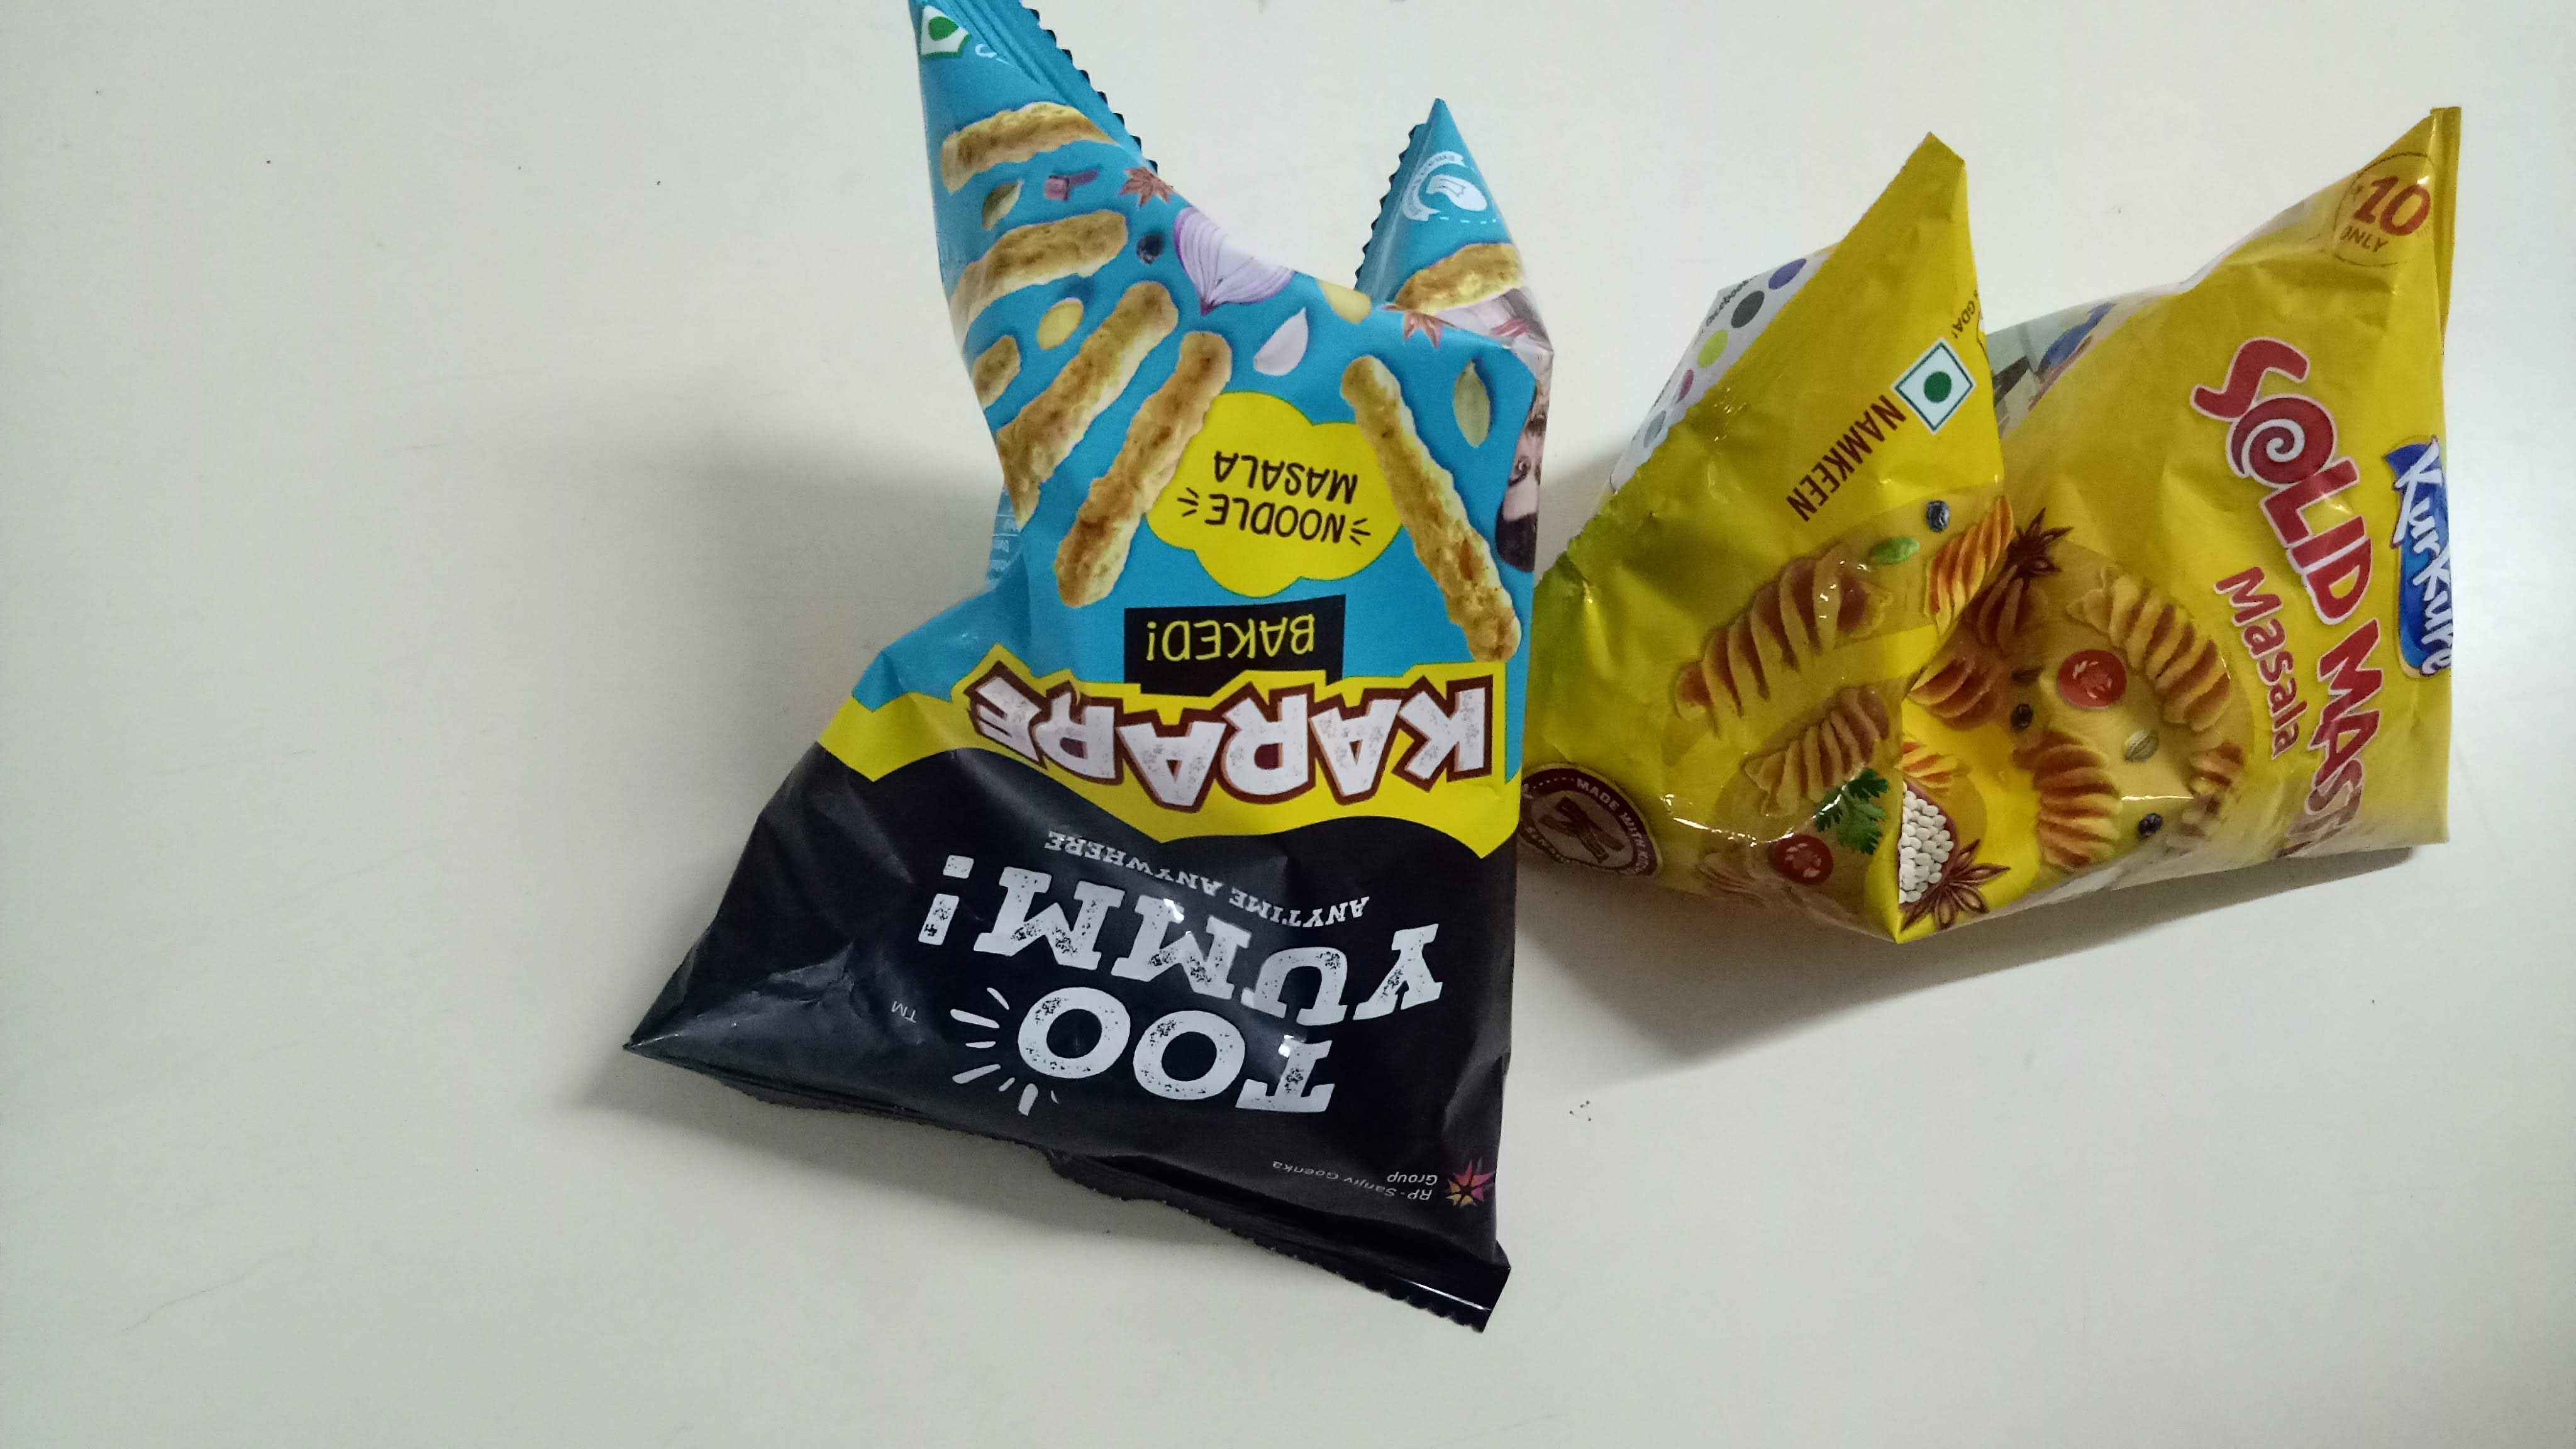kurkure: (2364, 426, 2465, 694)
tooyumm: (865, 870, 1477, 1053)
